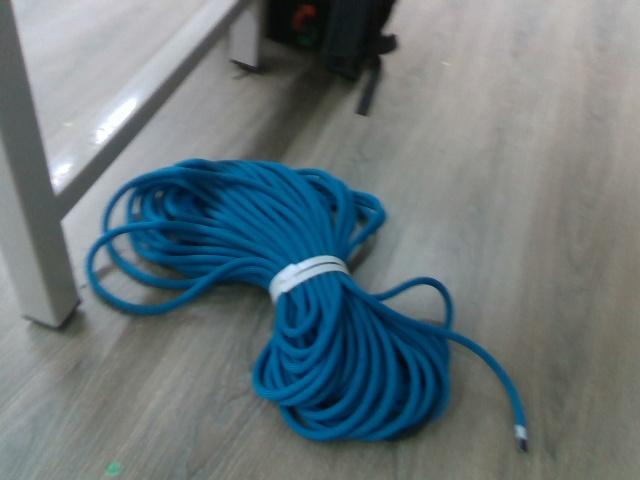rope: (81, 153, 540, 458)
